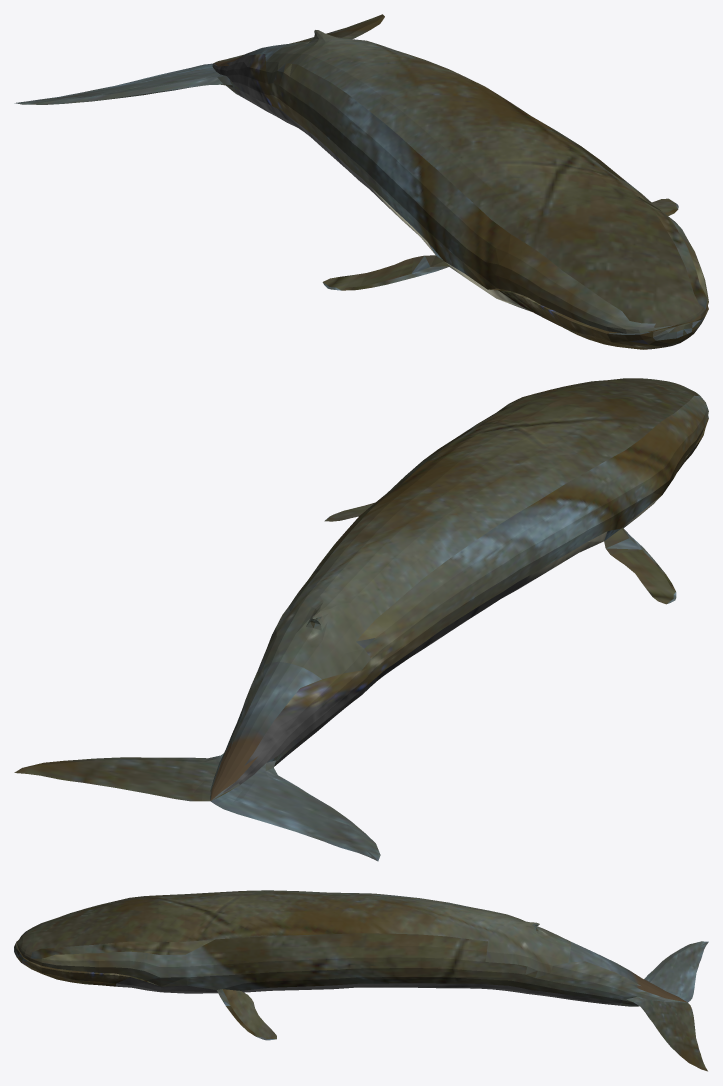
The model's file is animal-whale-golden.fbx.
The picture shows the model from 3 angles, top to bottom: view 1: azimuth 30°, elevation 25°; view 2: azimuth 150°, elevation 25°; view 3: azimuth 270°, elevation 25°; orthographic projection. The views are drawn at different scales.
Visible parts, largest first — view 1: BlueWhale.001; view 2: BlueWhale.001; view 3: BlueWhale.001.
Boxes of the visible parts, x1,y1,x2,y2 form: BlueWhale.001: (14, 14, 708, 349); BlueWhale.001: (14, 378, 708, 861); BlueWhale.001: (14, 890, 708, 1071).
Size of the model in its own units: 1956 by 734 by 4440.
